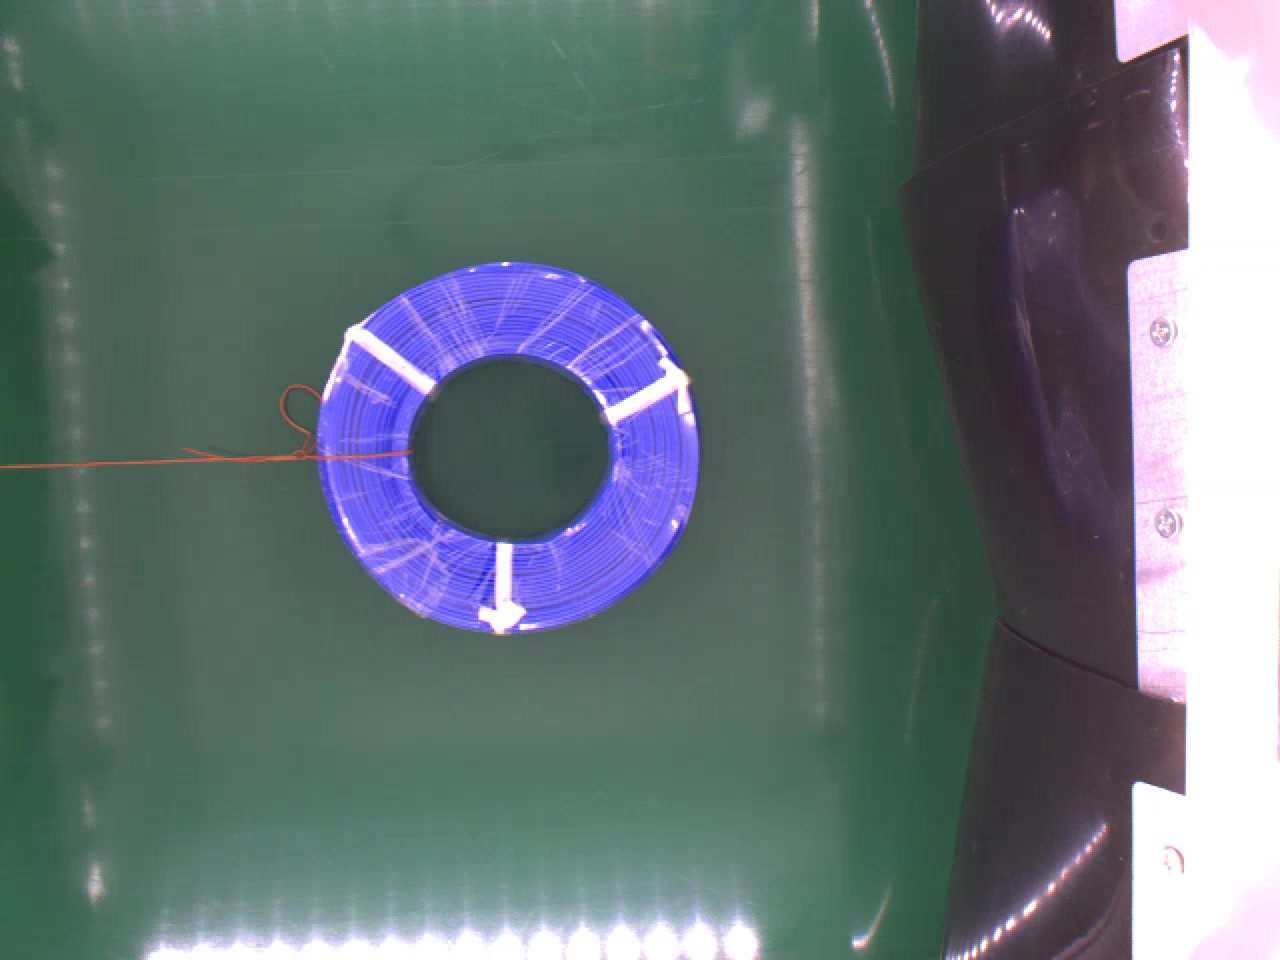blue: (317, 258, 698, 626)
